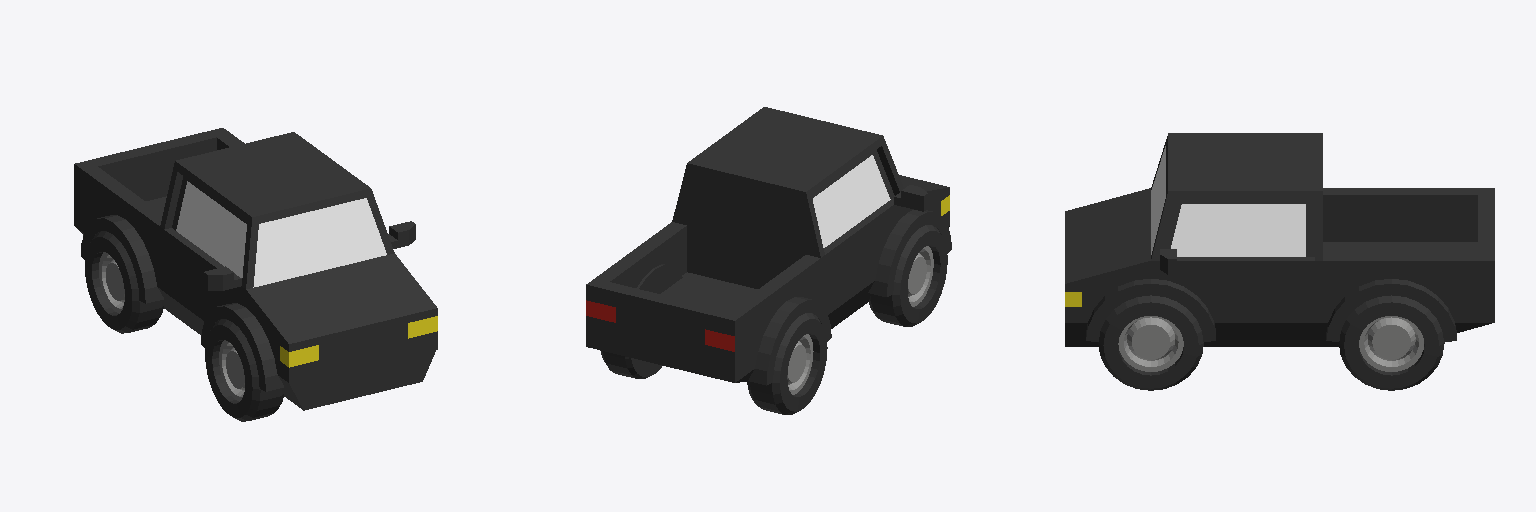
Rendered from pickup_truck_black.obj.
The picture shows the model from 3 angles: view 1: azimuth 30°, elevation 25°; view 2: azimuth 150°, elevation 25°; view 3: azimuth 270°, elevation 25°; orthographic projection.
Parts seen in each view (by area): view 1: mergedBlocks; view 2: mergedBlocks; view 3: mergedBlocks.
Part boxes in pixels (x1,y1,x2,y2): mergedBlocks: (74, 128, 437, 421); mergedBlocks: (586, 107, 951, 414); mergedBlocks: (1065, 133, 1494, 390).
Size of the model in its own units: 1.4 by 1.21 by 2.5.